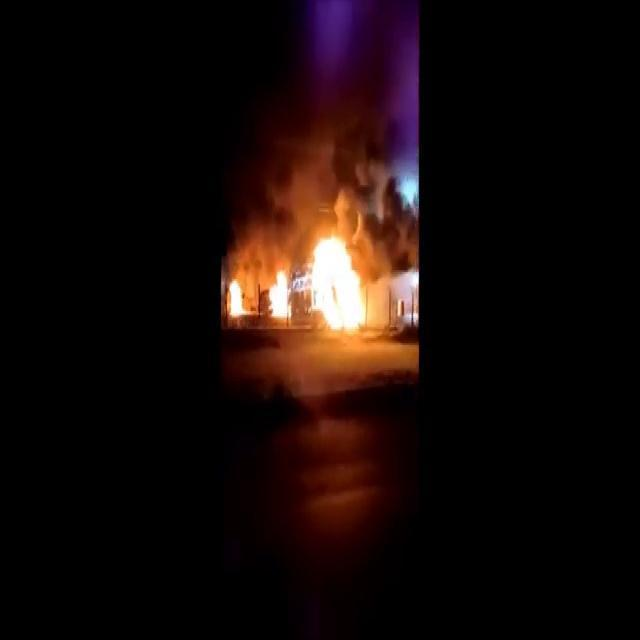Fire: (309, 231, 366, 329), (267, 264, 290, 318), (226, 276, 249, 318)
